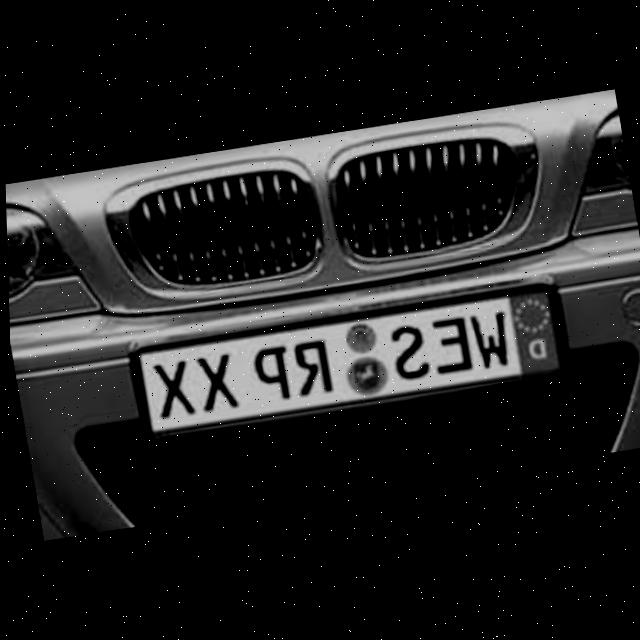license-plates: (138, 288, 561, 433)
